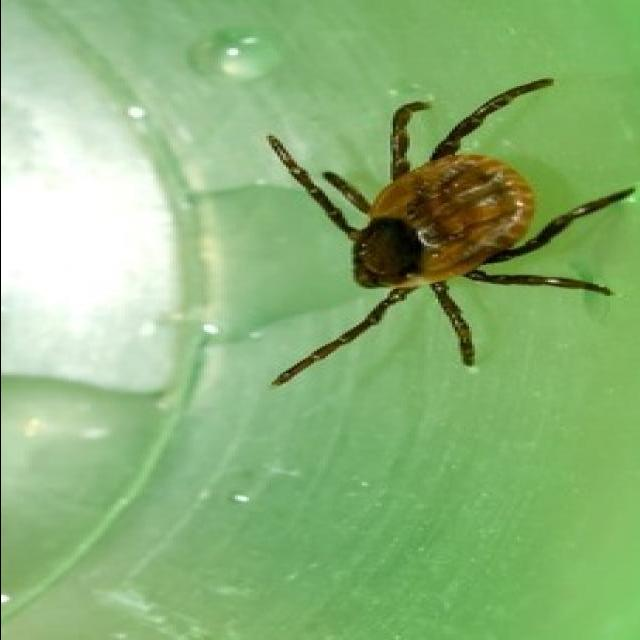Rhipicephalus Sanguineus-F: (268, 79, 632, 384)
